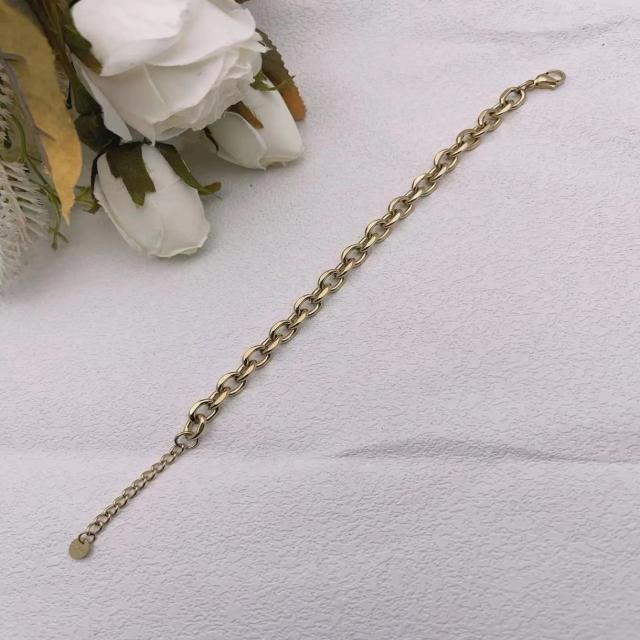bracelet: (0, 24, 638, 640)
